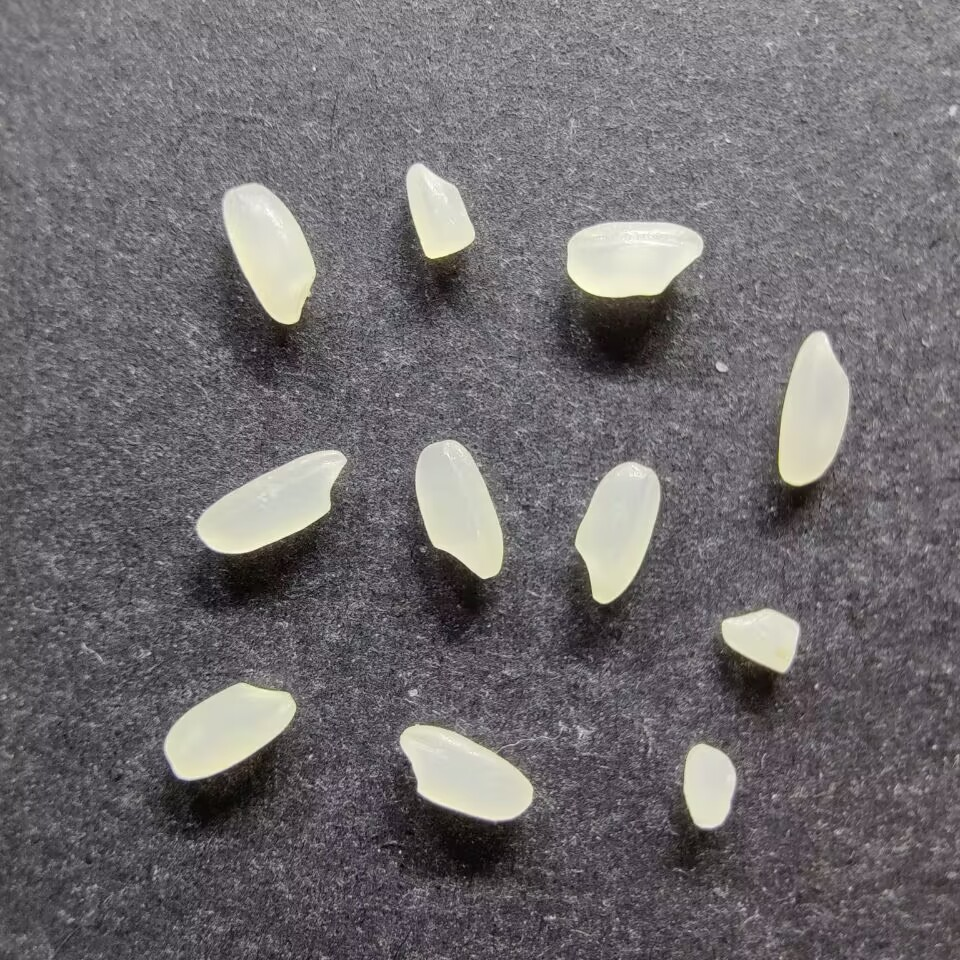broken: (404, 161, 476, 260), (719, 607, 800, 673), (681, 742, 736, 830)
rice: (195, 450, 348, 554), (221, 183, 316, 325), (162, 681, 296, 781), (398, 724, 534, 822), (414, 438, 504, 580), (574, 461, 661, 604), (777, 329, 850, 486), (565, 221, 704, 298)
